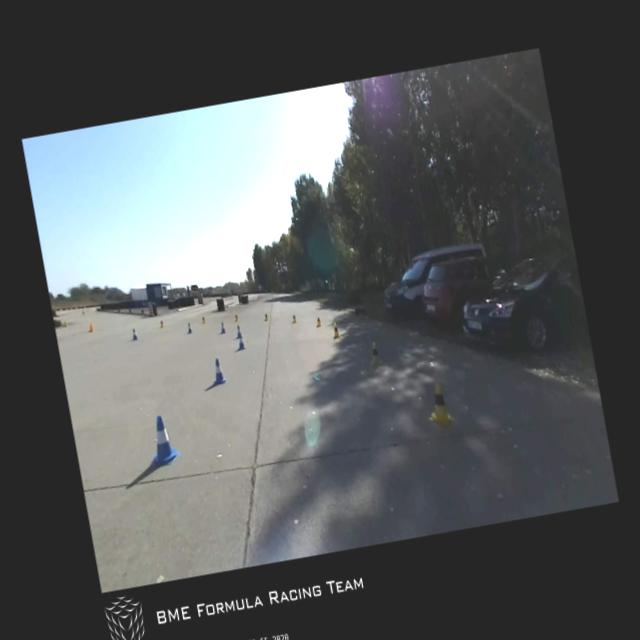blue_cone: (143, 412, 182, 468), (208, 356, 225, 384), (234, 332, 246, 349), (233, 324, 243, 338), (129, 326, 138, 341), (233, 324, 242, 339), (218, 320, 226, 334), (185, 321, 193, 334)
orange_cone: (86, 322, 94, 332)
yellow_cone: (422, 380, 453, 430), (365, 339, 384, 368), (330, 322, 340, 339), (314, 316, 322, 328), (290, 312, 298, 324), (199, 314, 206, 326), (232, 312, 240, 322), (158, 318, 165, 328), (262, 311, 268, 322)
